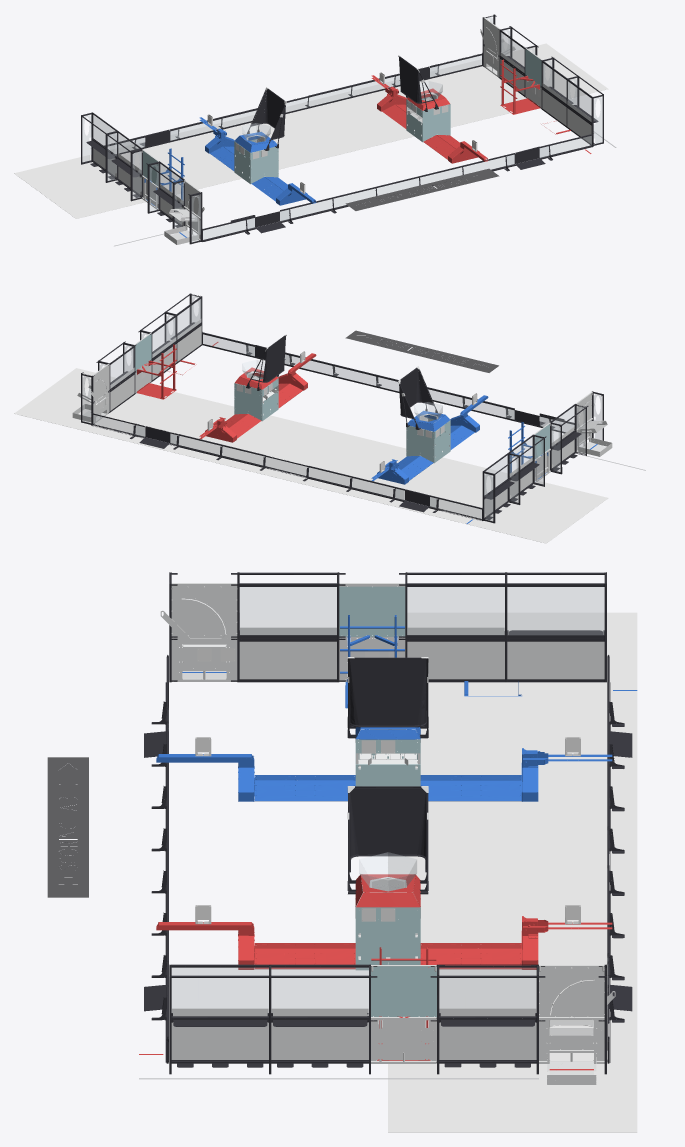
The model's file is field.glb.
The picture shows the model from 3 angles, top to bottom: view 1: azimuth 30°, elevation 25°; view 2: azimuth 150°, elevation 25°; view 3: azimuth 270°, elevation 25°; orthographic projection. The views are drawn at different scales.
Parts seen in each view (by area): view 1: carpet, solid_b, solid_a, solid_c, clear_b, clear_a, clear_c; view 2: carpet, solid_b, solid_a, solid_c, clear_b, clear_a, clear_c; view 3: carpet, solid_b, solid_c, solid_a, clear_a, clear_c, clear_b.
Boxes of the visible parts, x1=… form: carpet: x1=14, y1=43, x2=608, y2=218; solid_b: x1=179, y1=55, x2=505, y2=220; solid_a: x1=81, y1=112, x2=293, y2=246; solid_c: x1=392, y1=14, x2=616, y2=171; clear_b: x1=179, y1=77, x2=505, y2=218; clear_a: x1=82, y1=115, x2=288, y2=241; clear_c: x1=396, y1=17, x2=602, y2=165; carpet: x1=14, y1=368, x2=608, y2=543; solid_b: x1=179, y1=330, x2=505, y2=499; solid_a: x1=389, y1=391, x2=645, y2=523; solid_c: x1=72, y1=293, x2=294, y2=449; clear_b: x1=179, y1=356, x2=505, y2=497; clear_a: x1=395, y1=394, x2=602, y2=520; clear_c: x1=82, y1=296, x2=289, y2=444; carpet: x1=388, y1=612, x2=637, y2=1132; solid_b: x1=47, y1=657, x2=624, y2=975; solid_c: x1=139, y1=892, x2=632, y2=1084; solid_a: x1=144, y1=572, x2=637, y2=768; clear_a: x1=168, y1=587, x2=604, y2=730; clear_c: x1=172, y1=874, x2=536, y2=1008; clear_b: x1=359, y1=852, x2=416, y2=887.
Size of the model in its own units: 22.56 by 3.06 by 10.82.
